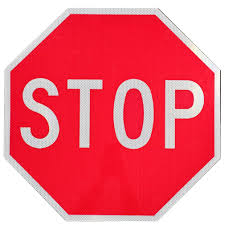stop sign: (3, 6, 221, 222)
